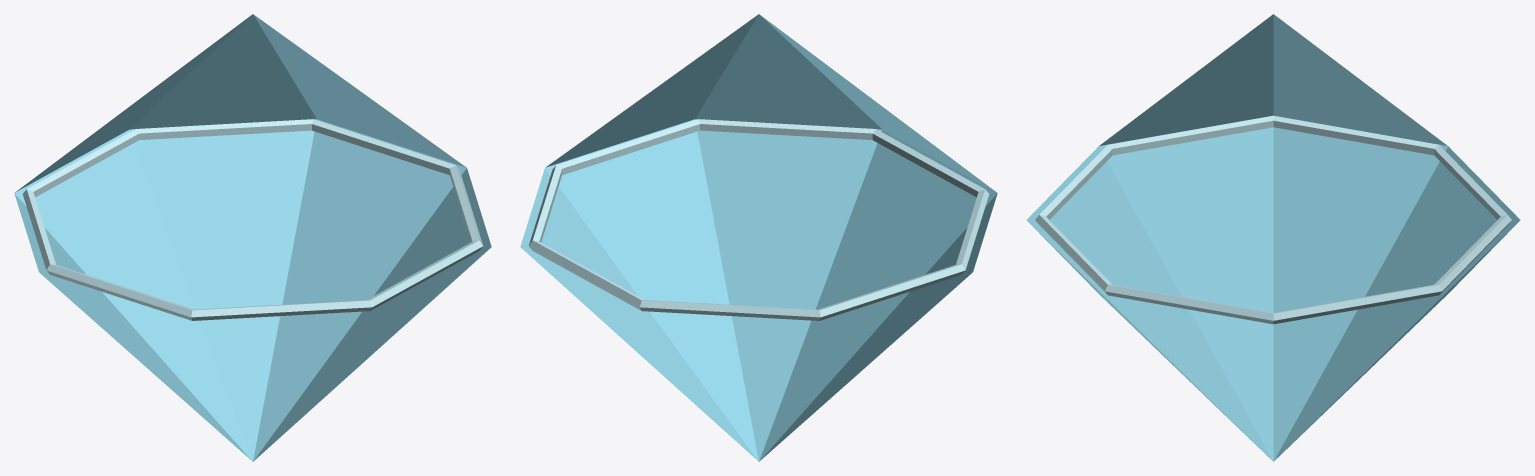
File: gema_azul.glb
3 renders of one model, left to right at view 1: azimuth 30°, elevation 25°; view 2: azimuth 150°, elevation 25°; view 3: azimuth 270°, elevation 25°, orthographic.
Visible parts, largest first — view 1: gema_azul; view 2: gema_azul; view 3: gema_azul.
Boxes of the visible parts, left/top/right/bottom form: gema_azul: left=14, top=14, right=491, bottom=461; gema_azul: left=520, top=14, right=997, bottom=461; gema_azul: left=1026, top=14, right=1520, bottom=461.
Bounding box in the file's own units: 0.4 × 0.4 × 0.4.
